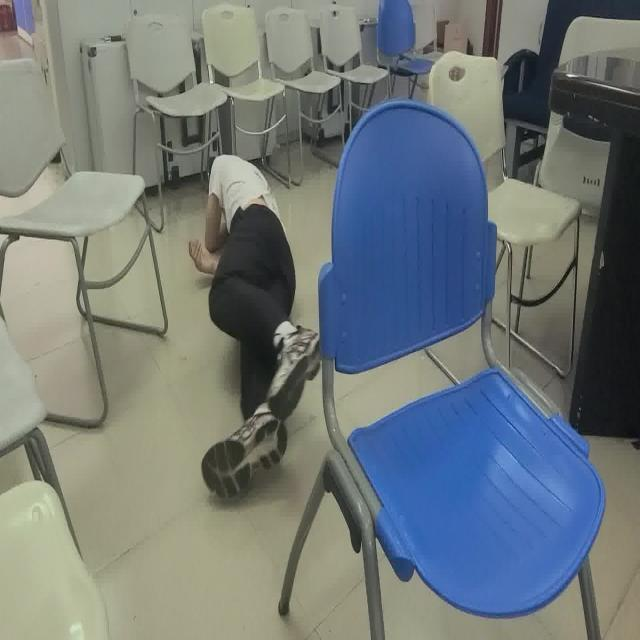fall: (187, 149, 326, 506)
